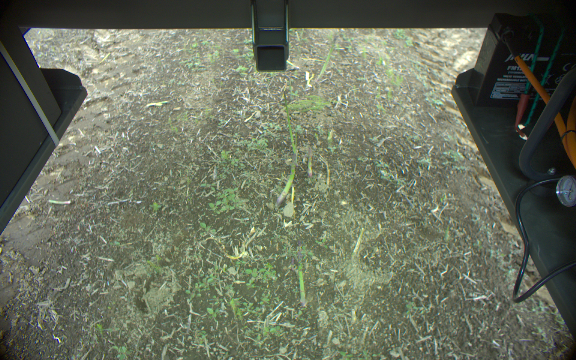aspa: (288, 247, 312, 308), (273, 152, 296, 207), (280, 89, 299, 151), (316, 34, 339, 79), (301, 143, 315, 180)
